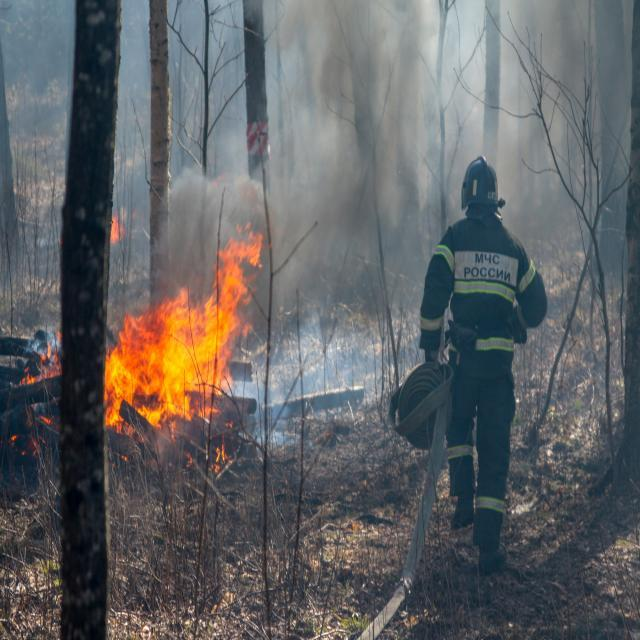Fire: (105, 223, 262, 434), (21, 332, 61, 386), (110, 214, 126, 242)
Smoke: (171, 0, 600, 443)
